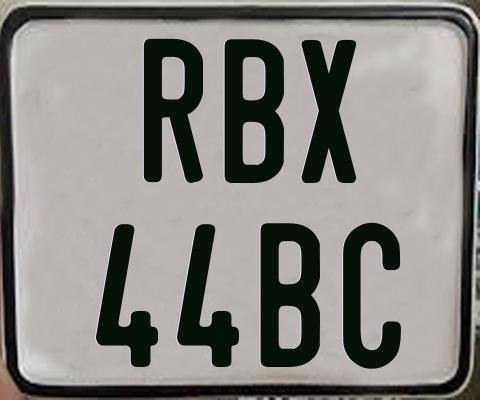4: (93, 223, 161, 371), (175, 224, 239, 371)
B: (222, 38, 286, 188), (258, 222, 321, 369)
C: (341, 222, 403, 374)
R: (144, 37, 207, 183)
X: (300, 39, 361, 188)
